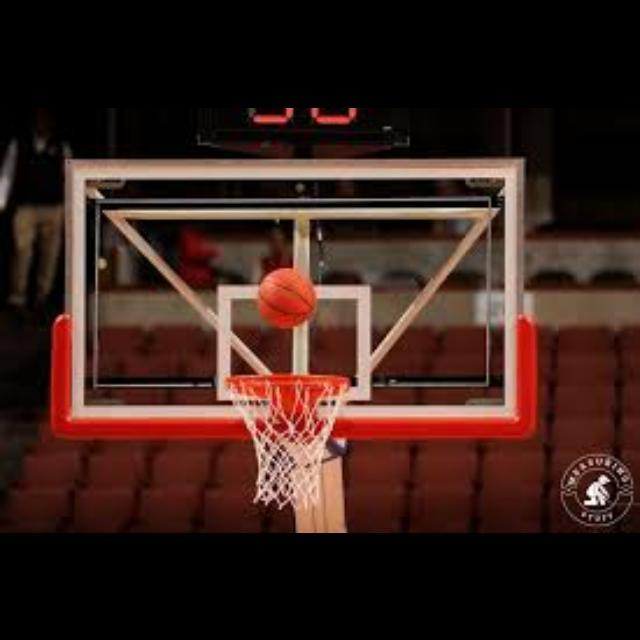basketball: (258, 269, 318, 329)
rim: (228, 376, 348, 506)
